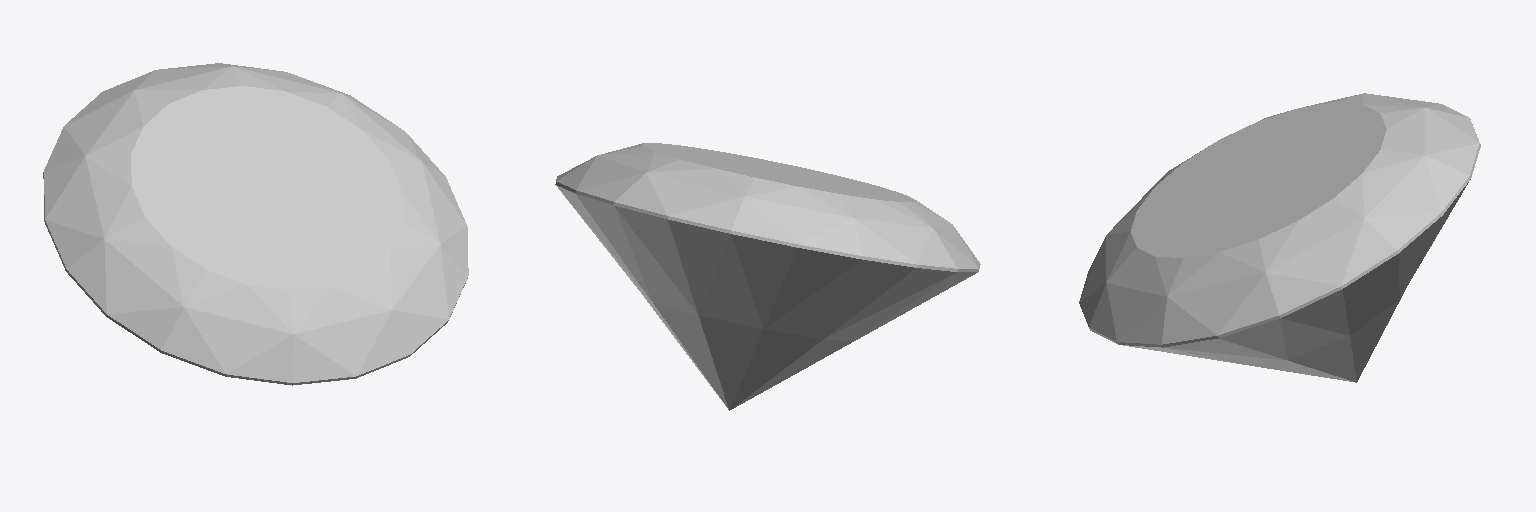
File: diamond.obj
The picture shows the model from 3 angles: view 1: azimuth 30°, elevation 25°; view 2: azimuth 150°, elevation 25°; view 3: azimuth 270°, elevation 25°; orthographic projection.
Parts seen in each view (by area): view 1: pCone1; view 2: pCone1; view 3: pCone1.
Part boxes in pixels (bbox=[...]): pCone1: bbox=[43, 63, 468, 385]; pCone1: bbox=[555, 143, 980, 410]; pCone1: bbox=[1079, 93, 1480, 382].
Size of the model in its own units: 1.98 by 1.27 by 1.82.